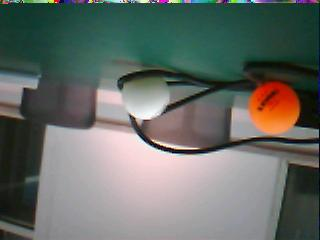oball: (246, 77, 301, 133)
